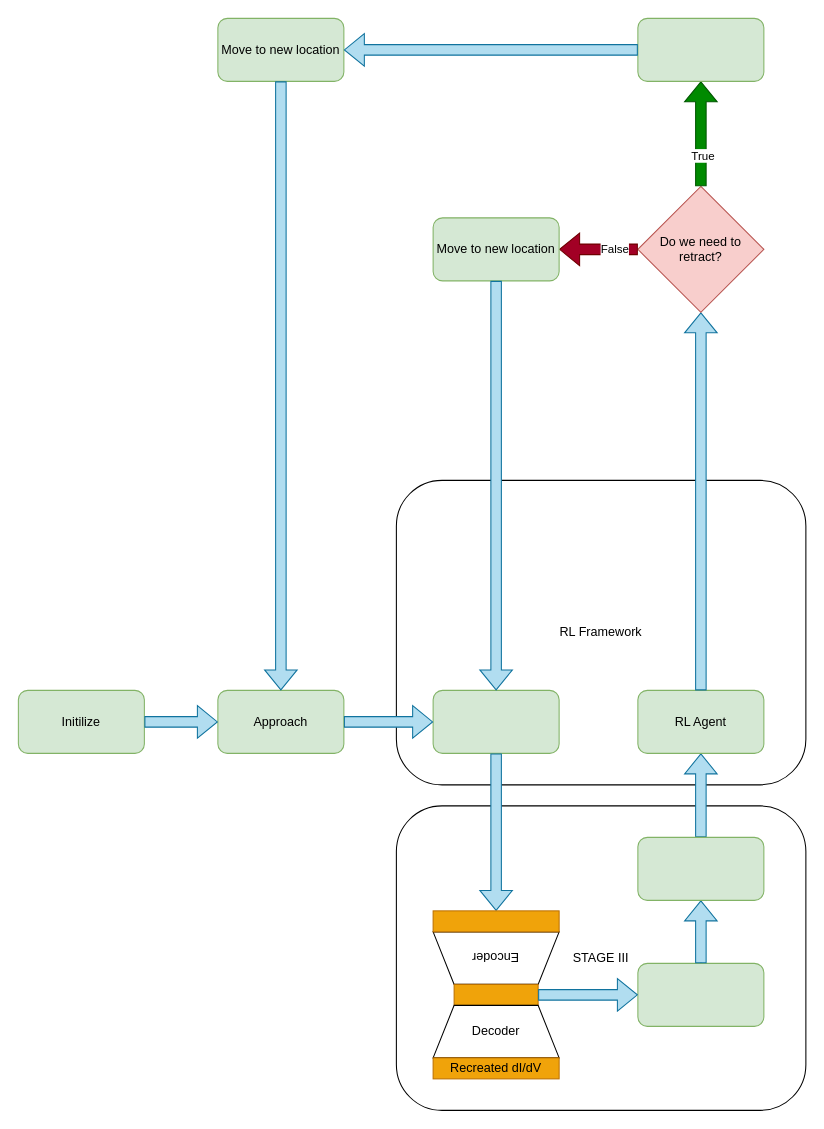
Image size: 824x1129. Some labels were removed from this diagram. Each missing label, with the centre of its shape:
"Cluster Analysis" goes at pixel 700 868.
"dI/dV spectrum" goes at pixel 495 921.
"Latent Space" goes at pixel 495 994.
"Retract" goes at pixel 700 49.
"Scan Area i" goes at pixel 495 721.
"Self-Organizing Map" goes at pixel 700 994.
